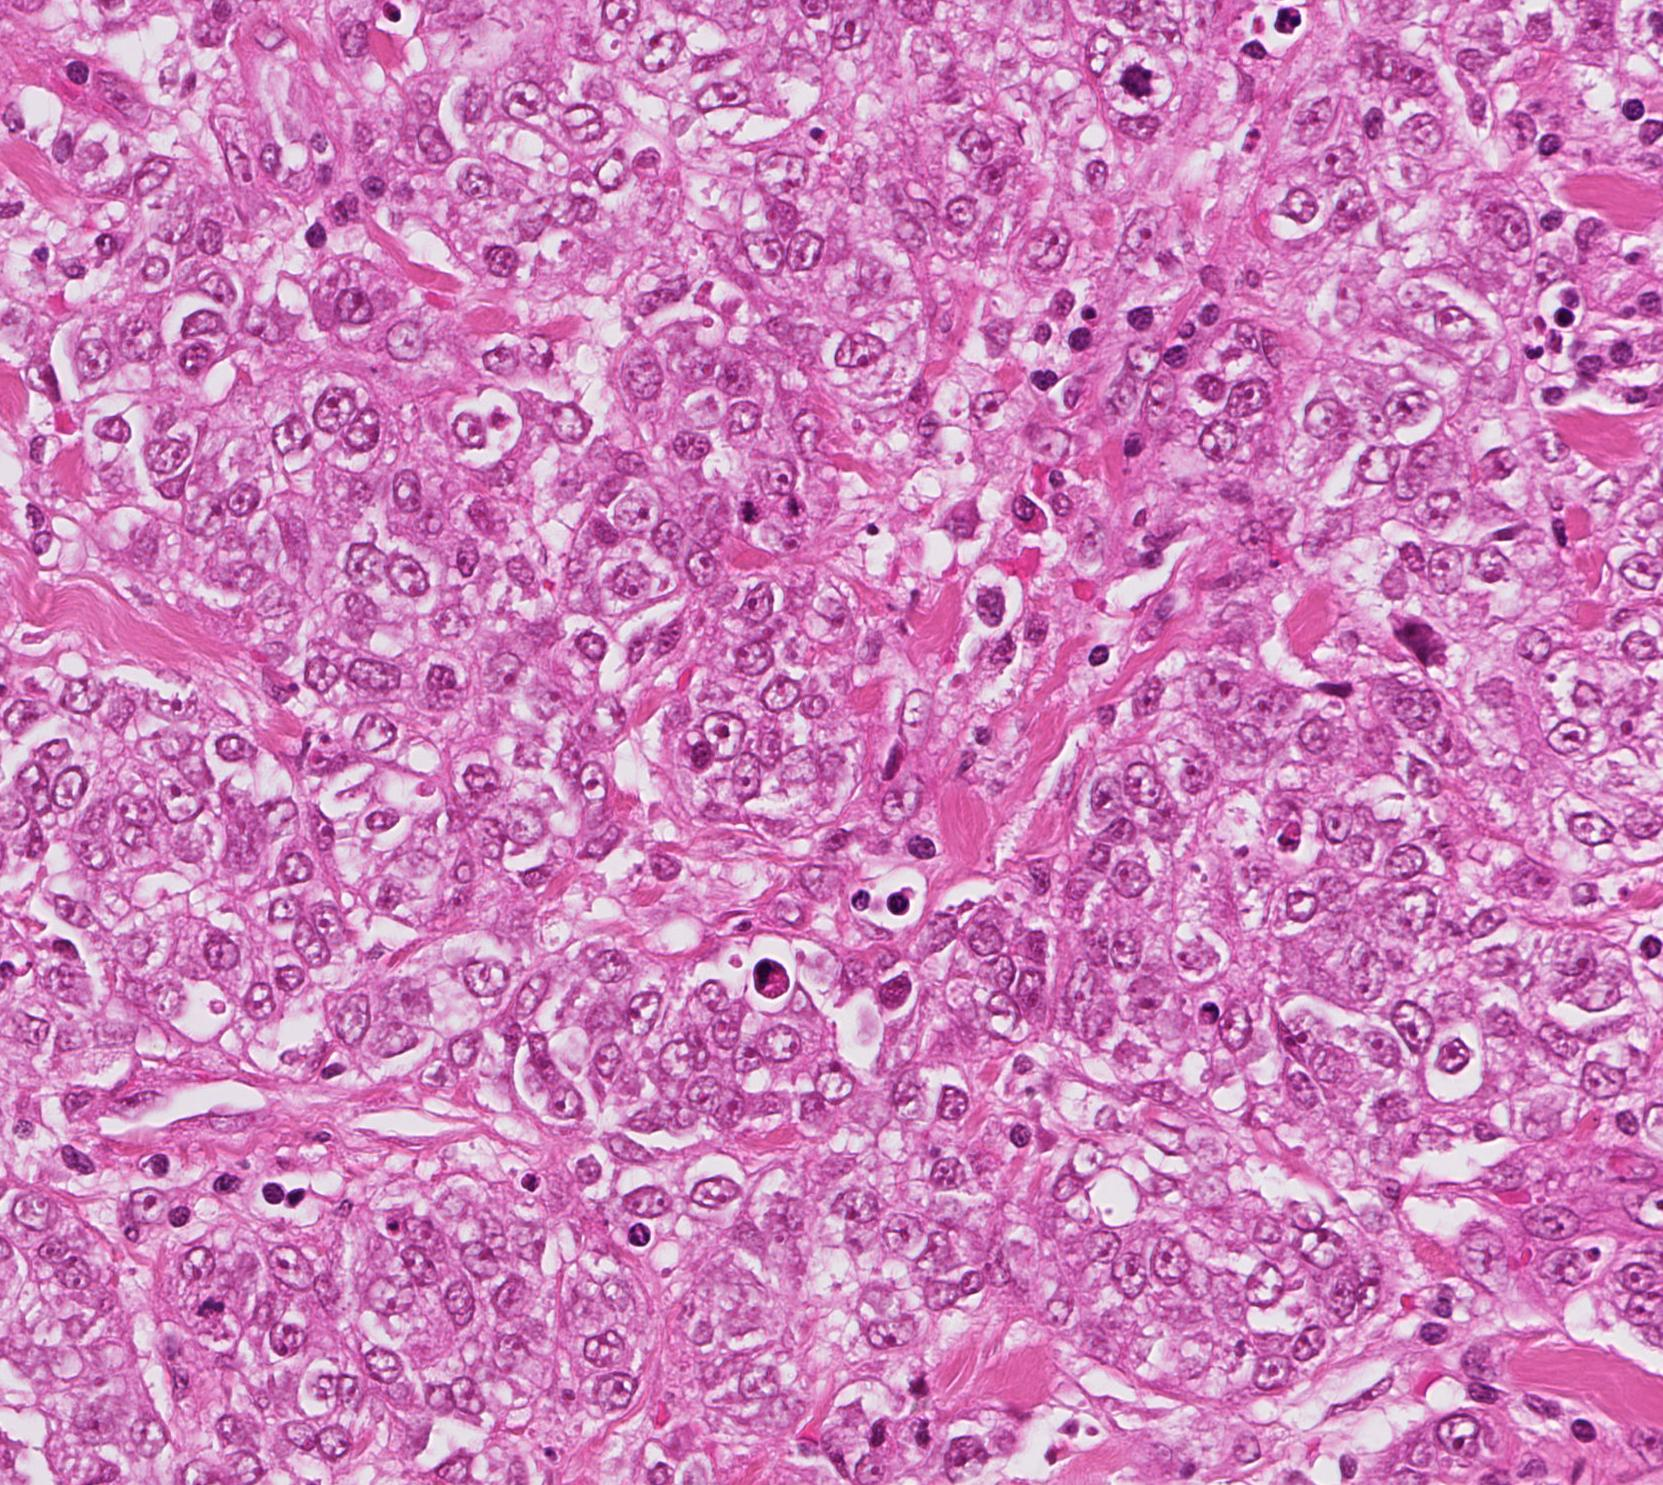mitosis: (1100, 49, 1160, 109)
